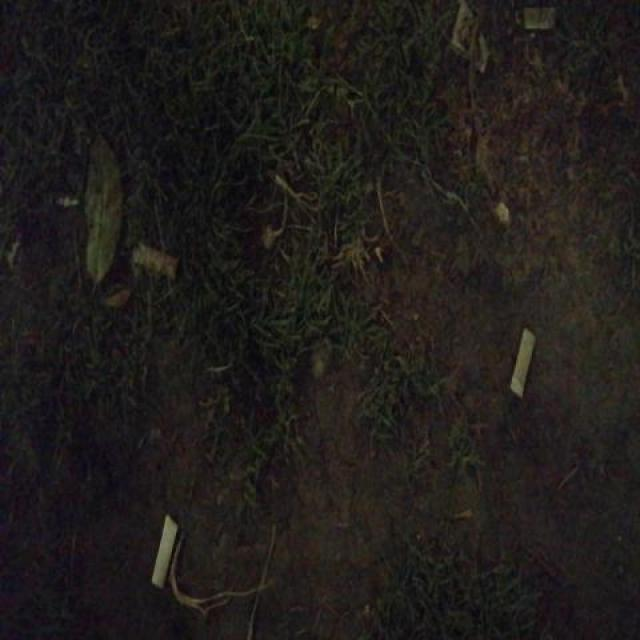non-organic waste: (147, 509, 184, 591), (505, 322, 540, 402), (128, 237, 184, 284)
